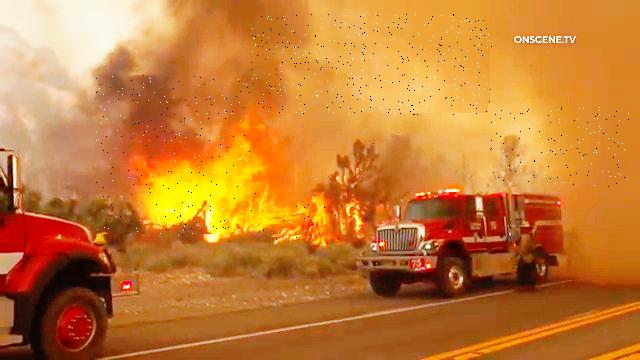fire: (96, 76, 250, 237), (230, 192, 325, 241)
smoke: (252, 15, 493, 116), (490, 106, 629, 187)
